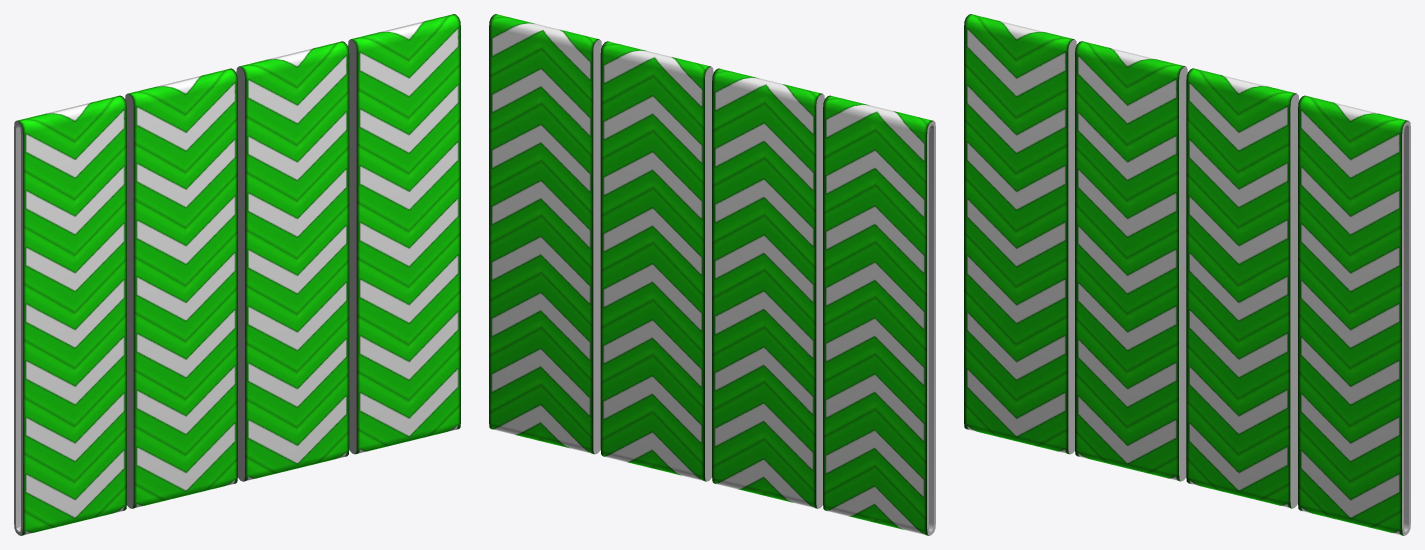
The model's file is prop_track.fbx.
The picture shows the model from 3 angles, left to right: view 1: azimuth 30°, elevation 25°; view 2: azimuth 150°, elevation 25°; view 3: azimuth 330°, elevation 25°; orthographic projection.
Parts seen in each view (by area): view 1: prop_track; view 2: prop_track; view 3: prop_track.
Part boxes in pixels (box(x1,y1,x2,y2)): prop_track: box(14, 14, 460, 535); prop_track: box(489, 14, 935, 535); prop_track: box(964, 14, 1410, 535).
Bounding box in the file's own units: 1555 × 1402 × 54.2.
